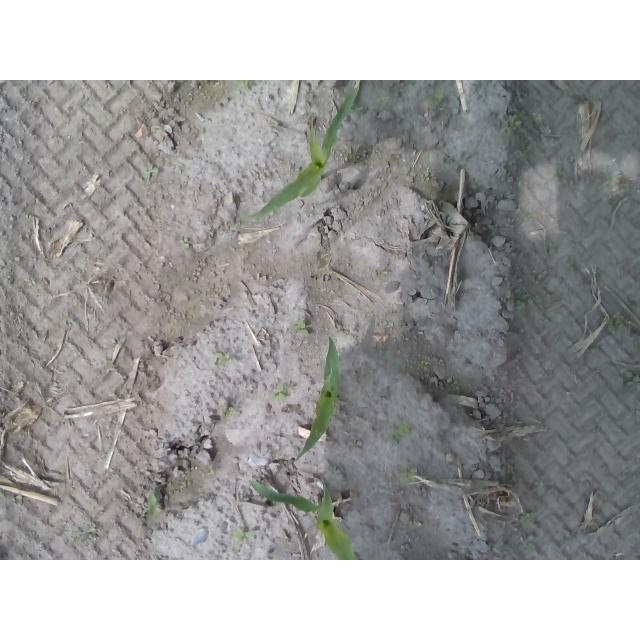Maize: (248, 80, 362, 224), (245, 473, 360, 559), (292, 336, 344, 465)
Weeds: (519, 511, 545, 554), (66, 526, 102, 548), (498, 112, 528, 135), (390, 420, 411, 448), (143, 490, 161, 519), (606, 311, 627, 333), (398, 466, 420, 486), (429, 85, 448, 108), (271, 383, 293, 402), (234, 529, 255, 548), (289, 319, 311, 337), (213, 349, 231, 367), (141, 165, 159, 183), (621, 369, 639, 387), (513, 296, 527, 313), (418, 357, 433, 372), (236, 80, 253, 93), (223, 406, 237, 417), (24, 277, 37, 288), (377, 95, 391, 105), (178, 238, 190, 249), (12, 494, 22, 504)
